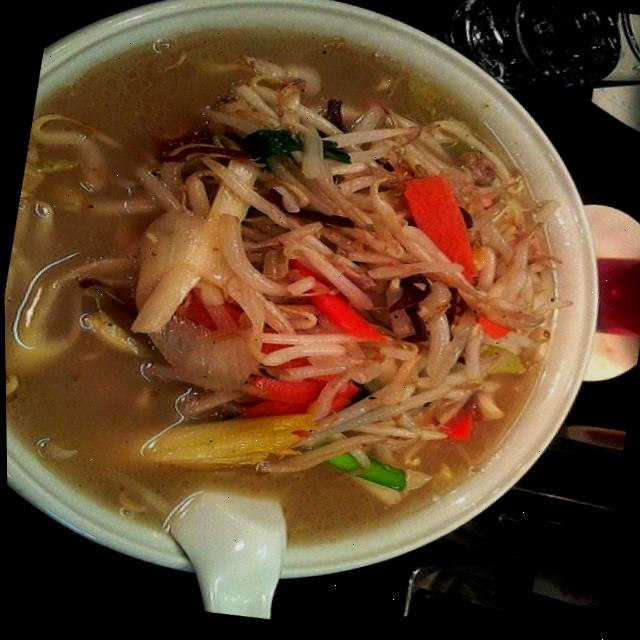面条主食: (1, 55, 524, 553)
